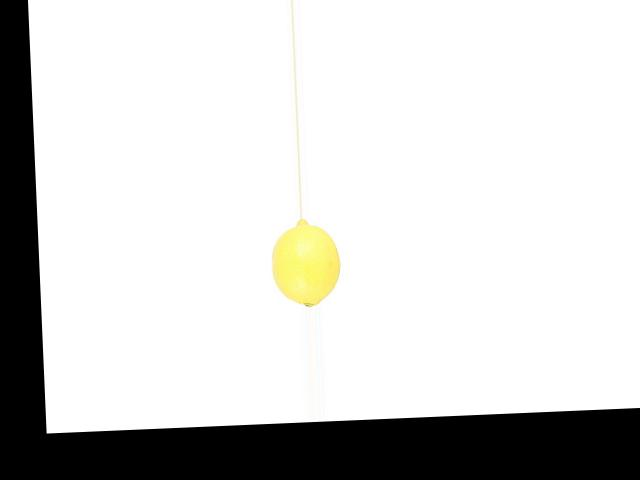lemon: (270, 218, 342, 307)
